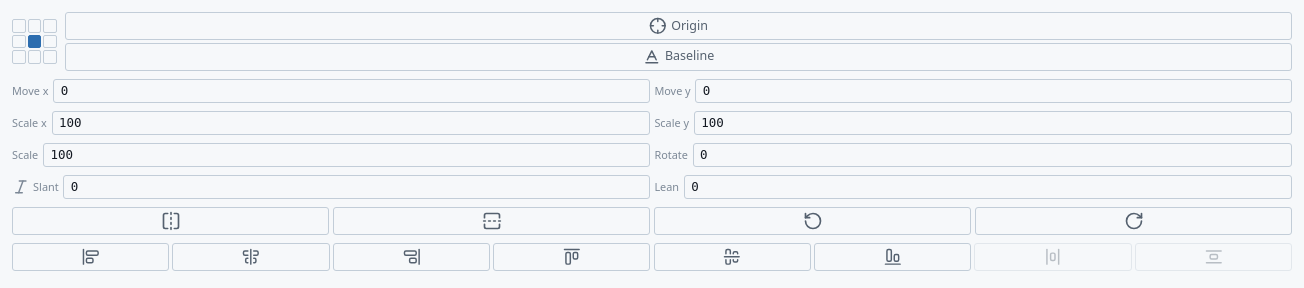
Scenario: a typed number › applies once on Enter, and the field goes back to its neutral value
Replace the text in the field named "Scale x %" with "50" at (351, 123), box x1=52 y1=111 x2=650 y2=135
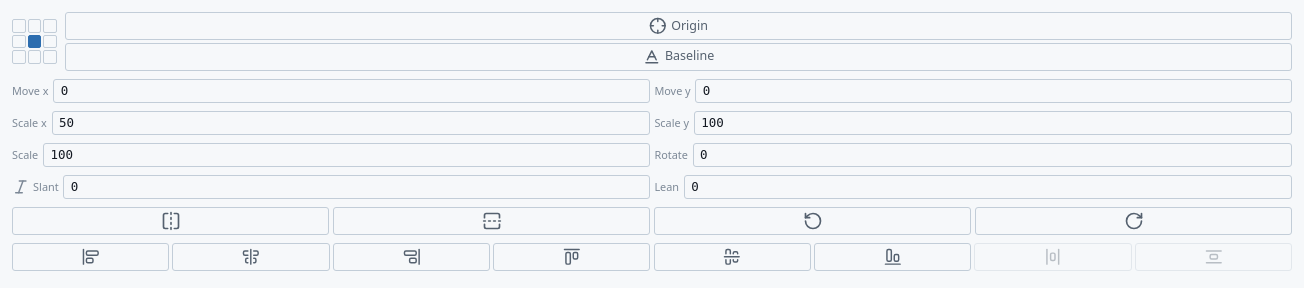
Press Enter in the field named "Scale x %", box x1=52 y1=111 x2=650 y2=135
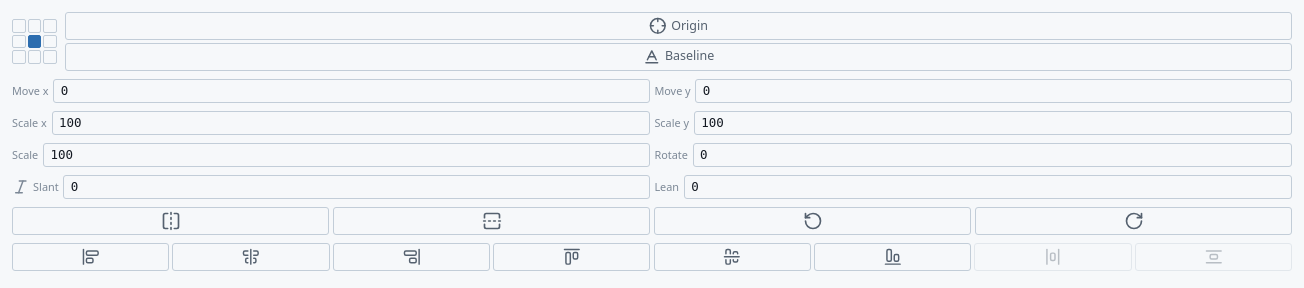
Now the field named "Scale x %" holds "100", box x1=52 y1=111 x2=650 y2=135
